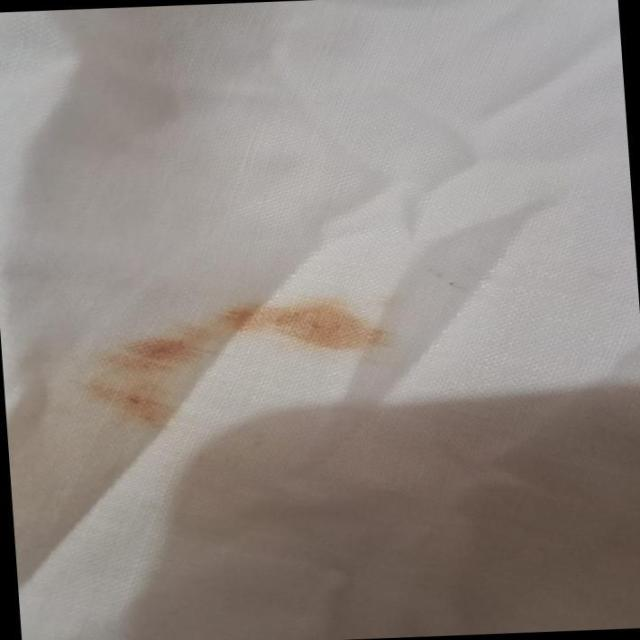stain: (62, 290, 410, 440)
